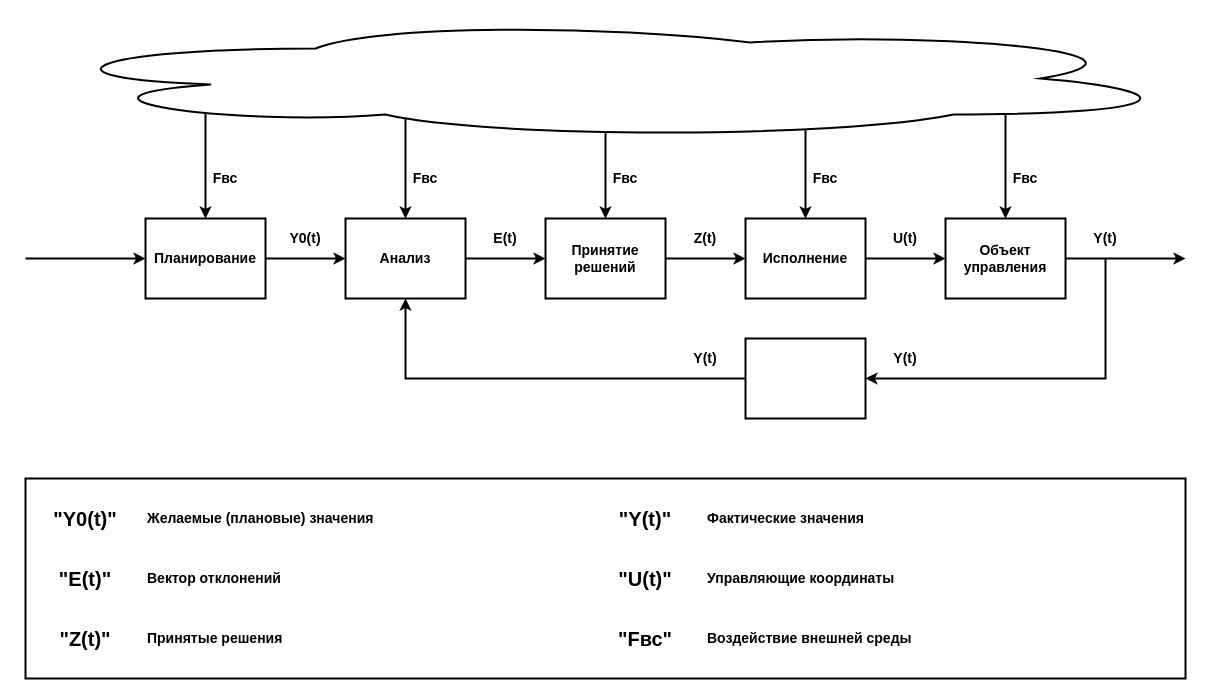
The diagram is 1211 pixels wide and 696 high, and some of its shapes have lost their labels. Each missing label, with the box of its shape:
Внешняя среда: (24, 17, 1186, 139)
Учет (контроль): (744, 337, 866, 419)
